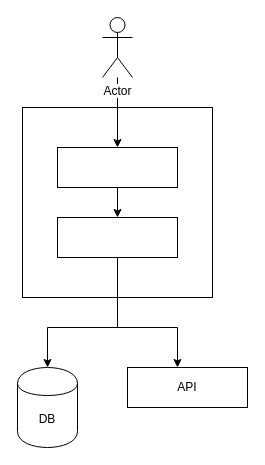
Some shapes in this 265 by 465 pixel diagram are drawn without their labels. Each missing label, with the box of its shape:
Backend: (56, 216, 178, 258)
Frontend: (56, 146, 178, 188)
